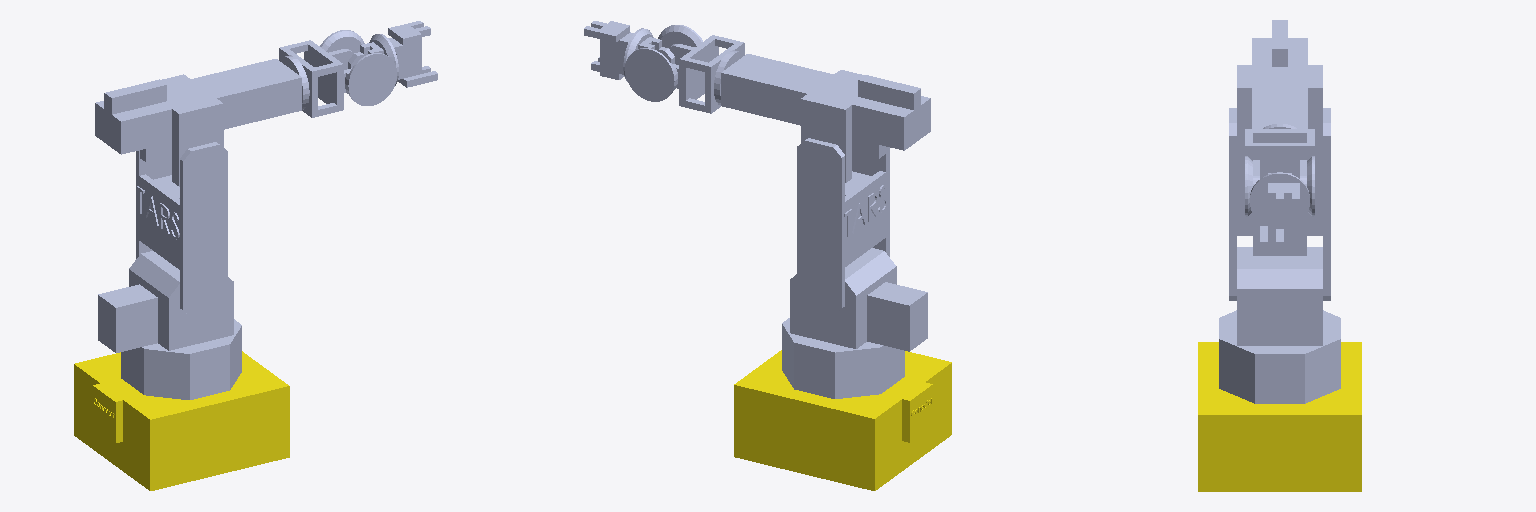
The robot description file, URDF, robot "assembly":
<?xml version="1.0" encoding="utf-8"?>
<!-- This URDF was automatically created by SolidWorks to URDF Exporter! Originally created by [author] ([email redacted]) 
     Commit Version: 1.6.0-1-g15f4949  Build Version: 1.6.7594.29634
     For more information, please see http://wiki.ros.org/sw_urdf_exporter -->
<robot
  name="assembly">
  <link
    name="base_link">
    <inertial>
      <origin
        xyz="-0.0896592777817382 -7.1640281346097E-09 0.0546361422508456"
        rpy="0 0 0" />
      <mass
        value="1.40770138056216" />
      <inertia
        ixx="0.5"
        ixy="0.5"
        ixz="0.5"
        iyy="0.5"
        iyz="0.5"
        izz="0.5" />
    </inertial>
    <visual>
      <origin
        xyz="0 0 0"
        rpy="0 0 0" />
      <geometry>
        <mesh
          filename="package://lego_robot/src/meshes/visual/base_link.STL" />
      </geometry>
      <material
        name="">
        <color
          rgba="1 0.937254901960784 0.137254901960784 1" />
      </material>
    </visual>
    <collision>
      <origin
        xyz="0 0 0"
        rpy="0 0 0" />
      <geometry>
        <mesh
          filename="package://lego_robot/src/meshes/collision/base_link.STL" />
      </geometry>
    </collision>
  </link>
  <link
    name="Base">
    <inertial>
      <origin
        xyz="-0.00575173694296013 -6.93889390390723E-17 0.0591791559608066"
        rpy="0 0 0" />
      <mass
        value="1.3785053243272" />
      <inertia
        ixx="0.5"
        ixy="0.5"
        ixz="0.5"
        iyy="0.5"
        iyz="0.5"
        izz="0.5" />
    </inertial>
    <visual>
      <origin
        xyz="0 0 0"
        rpy="0 0 0" />
      <geometry>
        <mesh
          filename="package://lego_robot/src/meshes/visual/base.STL" />
      </geometry>
      <material
        name="">
        <color
          rgba="0.792156862745098 0.819607843137255 0.933333333333333 1" />
      </material>
    </visual>
    <collision>
      <origin
        xyz="0 0 0"
        rpy="0 0 0" />
      <geometry>
        <mesh
          filename="package://lego_robot/src/meshes/collision/base.STL" />
      </geometry>
    </collision>
  </link>
  <joint
    name="Hombro"
    type="revolute">
    <origin
      xyz="-0.088 0 0.0865"
      rpy="0 0 0" />
    <parent
      link="base_link" />
    <child
      link="Base" />
    <axis
      xyz="0 0 1" />
    <limit
      lower="-1.571"
      upper="1.571"
      effort="10"
      velocity="10" />
  </joint>
  <link
    name="Brazo">
    <inertial>
      <origin
        xyz="-0.00117989341028664 -6.45935206126935E-06 0.0850293849518958"
        rpy="0 0 0" />
      <mass
        value="0.442035468767809" />
      <inertia
        ixx="0.5"
        ixy="0.5"
        ixz="0.5"
        iyy="0.5"
        iyz="0.5"
        izz="0.5" />
    </inertial>
    <visual>
      <origin
        xyz="0 0 0"
        rpy="0 0 0" />
      <geometry>
        <mesh
          filename="package://lego_robot/src/meshes/visual/Brazo.STL" />
      </geometry>
      <material
        name="">
        <color
          rgba="0.792156862745098 0.819607843137255 0.933333333333333 1" />
      </material>
    </visual>
    <collision>
      <origin
        xyz="0 0 0"
        rpy="0 0 0" />
      <geometry>
        <mesh
          filename="package://lego_robot/src/meshes/collision/Brazo.STL" />
      </geometry>
    </collision>
  </link>
  <joint
    name="Brazo"
    type="revolute">
    <origin
      xyz="0 0 0.107"
      rpy="0 0 0" />
    <parent
      link="Base" />
    <child
      link="Brazo" />
    <axis
      xyz="0 1 0" />
    <limit
      lower="-1.571"
      upper="1.571"
      effort="10"
      velocity="10" />
  </joint>
  <link
    name="Antebrazo">
    <inertial>
      <origin
        xyz="0.0143222614103702 -2.4980018054066E-16 0.0398528294148467"
        rpy="0 0 0" />
      <mass
        value="0.692501299369186" />
      <inertia
        ixx="0.5"
        ixy="0.5"
        ixz="0.5"
        iyy="0.5"
        iyz="0.5"
        izz="0.5" />
    </inertial>
    <visual>
      <origin
        xyz="0 0 0"
        rpy="0 0 0" />
      <geometry>
        <mesh
          filename="package://lego_robot/src/meshes/visual/antebrazo.STL" />
      </geometry>
      <material
        name="">
        <color
          rgba="0.792156862745098 0.819607843137255 0.933333333333333 1" />
      </material>
    </visual>
    <collision>
      <origin
        xyz="0 0 0"
        rpy="0 0 0" />
      <geometry>
        <mesh
          filename="package://lego_robot/src/meshes/collision/antebrazo.STL" />
      </geometry>
    </collision>
  </link>
  <joint
    name="Antebrazo"
    type="revolute">
    <origin
      xyz="0 0 0.168"
      rpy="0 0 0" />
    <parent
      link="Brazo" />
    <child
      link="Antebrazo" />
    <axis
      xyz="0 1 0" />
    <limit
      lower="-0.7854"
      upper="0.7854"
      effort="10"
      velocity="10" />
  </joint>
  <link
    name="Munieca">
    <inertial>
      <origin
        xyz="0.0452057312013295 2.77555756156289E-17 5.55111512312578E-17"
        rpy="0 0 0" />
      <mass
        value="0.156951387678108" />
      <inertia
        ixx="0.5"
        ixy="0.5"
        ixz="0.5"
        iyy="0.5"
        iyz="0.5"
        izz="0.5" />
    </inertial>
    <visual>
      <origin
        xyz="0 0 0"
        rpy="0 0 0" />
      <geometry>
        <mesh
          filename="package://lego_robot/src/meshes/visual/Munieca.STL" />
      </geometry>
      <material
        name="">
        <color
          rgba="0.792156862745098 0.819607843137255 0.933333333333333 1" />
      </material>
    </visual>
    <collision>
      <origin
        xyz="0 0 0"
        rpy="0 0 0" />
      <geometry>
        <mesh
          filename="package://lego_robot/src/meshes/collision/Munieca.STL" />
      </geometry>
    </collision>
  </link>
  <joint
    name="Munieca"
    type="revolute">
    <origin
      xyz="0.135999999999999 0 0.0439999999999997"
      rpy="0 0 0" />
    <parent
      link="Antebrazo" />
    <child
      link="Munieca" />
    <axis
      xyz="1 0 0" />
    <limit
      lower="-1.571"
      upper="1.571"
      effort="10"
      velocity="10" />
  </joint>

  <link
    name="Mano">
    <inertial>
      <origin
        xyz="0.0219738946191299 9.71445146547012E-17 5.55111512312578E-17"
        rpy="0 0 0" />
      <mass
        value="0.0261035180878664" />
      <inertia
        ixx="0.5"
        ixy="0.5"
        ixz="0.5"
        iyy="0.5"
        iyz="0.5"
        izz="0.5" />
    </inertial>
    <visual>
      <origin
        xyz="0 0 0"
        rpy="0 0 0" />
      <geometry>
        <mesh
          filename="package://lego_robot/src/meshes/visual/Mano.STL" />
      </geometry>
      <material
        name="">
        <color
          rgba="0.792156862745098 0.819607843137255 0.933333333333333 1" />
      </material>
    </visual>
    <collision>
      <origin
        xyz="0 0 0"
        rpy="0 0 0" />
      <geometry>
        <mesh
          filename="package://lego_robot/src/meshes/collision/Mano.STL" />
      </geometry>
    </collision>
  </link>

  <joint
    name="Mano"
    type="revolute">
    <origin
      xyz="0.085 0 0"
      rpy="0 0 0" />
    <parent
      link="Munieca" />
    <child
      link="Mano" />
    <axis
      xyz="0 1 0" />
    <limit
      lower="-1.571"
      upper="1.571"
      effort="10"
      velocity="10" />
  </joint>

  <link
    name="Dedo">
    <inertial>
      <origin
        xyz="0.00935079076459866 1.38777878078145E-17 0"
        rpy="0 0 0" />
      <mass
        value="0.0223692116202994" />
      <inertia
        ixx="0.5"
        ixy="0.5"
        ixz="0.5"
        iyy="0.5"
        iyz="0.5"
        izz="0.5" />
    </inertial>
    <visual>
      <origin
        xyz="-0.062 0 0"
        rpy="0 0 0" />
      <geometry>
        <mesh
          filename="package://lego_robot/src/meshes/visual/Dedo.STL" />
      </geometry>
      <material
        name="">
        <color
          rgba="0.792156862745098 0.819607843137255 0.933333333333333 1" />
      </material>
    </visual>
    <collision>
      <origin
        xyz="-0.062 0 0"
        rpy="0 0 0" />
      <geometry>
        <mesh
          filename="package://lego_robot/src/meshes/collision/Dedo.STL" />
      </geometry>
    </collision>
  </link>

  <joint
    name="Dedo"
    type="revolute">
    <origin

      xyz="0.095 0 0" 
      rpy="0 0 0" />
    <parent
      link="Mano" />
    <child
      link="Dedo" />
    <axis
      xyz="1 0 0" />
    <limit
      lower="-1.571"
      upper="1.571"
      effort="10"
      velocity="10" />
  </joint>
  
  <link
    name="Garra1">
    <inertial>
      <origin
        xyz="0.0145806451612933 0.00400000000000064 0.0122580645161277"
        rpy="0 0 0" />
      <mass
        value="0.015872" />
      <inertia
        ixx="0.5"
        ixy="0.5"
        ixz="0.5"
        iyy="0.5"
        iyz="0.5"
        izz="0.5" />
    </inertial>
    <visual>
      <origin
        xyz="-0.062 0 0"
        rpy="0 0 0" />
      <geometry>
        <mesh
          filename="package://lego_robot/src/meshes/visual/Garra1.STL" />
      </geometry>
      <material
        name="">
        <color
          rgba="0.792156862745098 0.819607843137255 0.933333333333333 1" />
      </material>
    </visual>
    <collision>
      <origin
        xyz="-0.062 0 0"
        rpy="0 0 0" />
      <geometry>
        <mesh
          filename="package://lego_robot/src/meshes/collision/Garra1.STL" />
      </geometry>
    </collision>
  </link>
  <joint
    name="Garra1"
    type="prismatic">
    <origin
      xyz="0.019 -0.012 -0.02"
      rpy="0 0 0" />
    <parent
      link="Dedo" />
    <child
      link="Garra1" />
    <axis
      xyz="0 0 -1" />
    <limit
      lower="-0.5"
      upper="0.5"
      effort="10"
      velocity="10" />
  </joint>
  <link
    name="Garra2">
    <inertial>
      <origin
        xyz="0.0145806451612903 -0.004 -0.012258064516129"
        rpy="0 0 0" />
      <mass
        value="0.015872" />
      <inertia
        ixx="0.5"
        ixy="0.5"
        ixz="0.5"
        iyy="0.5"
        iyz="0.5"
        izz="0.5" />
    </inertial>
    <visual>
      <origin
        xyz="-0.062 0 0"
        rpy="0 0 0" />
      <geometry>
        <mesh
          filename="package://lego_robot/src/meshes/visual/Garra2.STL" />
      </geometry>
      <material
        name="">
        <color
          rgba="0.792156862745098 0.819607843137255 0.933333333333333 1" />
      </material>
    </visual>
    <collision>
      <origin
        xyz="-0.062 0 0"
        rpy="0 0 0" />
      <geometry>
        <mesh
          filename="package://lego_robot/src/meshes/collision/Garra2.STL" />
      </geometry>
    </collision>
  </link>
  <joint
    name="Garra2"
    type="prismatic">
    <origin
      xyz="0.019 0.012 0.02"
      rpy="0 0 0" />
    <parent
      link="Dedo" />
    <child
      link="Garra2" />
    <axis
      xyz="0 0 1" />
    <limit
      lower="-0.5"
      upper="0.5"
      effort="10"
      velocity="10" />
  </joint>


</robot>

--- What the picture shows (computed from the rendered views, not written in the file) ---
The picture shows the robot from 3 angles, left to right: view 1: azimuth 30°, elevation 25°; view 2: azimuth 150°, elevation 25°; view 3: azimuth 270°, elevation 25°; orthographic projection.
Robot: assembly — 9 links, 8 joints (6 revolute, 2 prismatic); root link base_link; default pose: every joint at zero.
Visible links, largest first — view 1: base_link, Base, Antebrazo, Brazo, Munieca, Garra1, Mano; view 2: base_link, Base, Antebrazo, Brazo, Munieca, Garra2, Mano; view 3: base_link, Base, Antebrazo, Brazo, Munieca, Dedo, Garra2, Garra1.
Link boxes in pixels (left/top/right/bottom): base_link: left=74, top=351, right=289, bottom=490; Base: left=98, top=251, right=241, bottom=399; Antebrazo: left=95, top=59, right=301, bottom=186; Brazo: left=136, top=142, right=227, bottom=316; Munieca: left=279, top=30, right=396, bottom=117; Garra1: left=398, top=32, right=437, bottom=87; Mano: left=348, top=34, right=395, bottom=68; base_link: left=734, top=350, right=951, bottom=490; Base: left=782, top=248, right=927, bottom=398; Antebrazo: left=721, top=54, right=930, bottom=182; Brazo: left=797, top=138, right=889, bottom=314; Munieca: left=625, top=25, right=744, bottom=113; Garra2: left=584, top=21, right=626, bottom=79; Mano: left=626, top=29, right=674, bottom=63; base_link: left=1198, top=342, right=1361, bottom=491; Base: left=1219, top=247, right=1340, bottom=403; Antebrazo: left=1237, top=20, right=1322, bottom=166; Brazo: left=1229, top=108, right=1330, bottom=300; Munieca: left=1245, top=124, right=1314, bottom=216; Dedo: left=1250, top=172, right=1309, bottom=228; Garra2: left=1276, top=183, right=1299, bottom=242; Garra1: left=1260, top=183, right=1283, bottom=248.
Size in the robot's own frame: 0.412 by 0.168 by 0.4455 metres.
9 mesh visuals loaded from 9 distinct referenced files (9 binary STL).